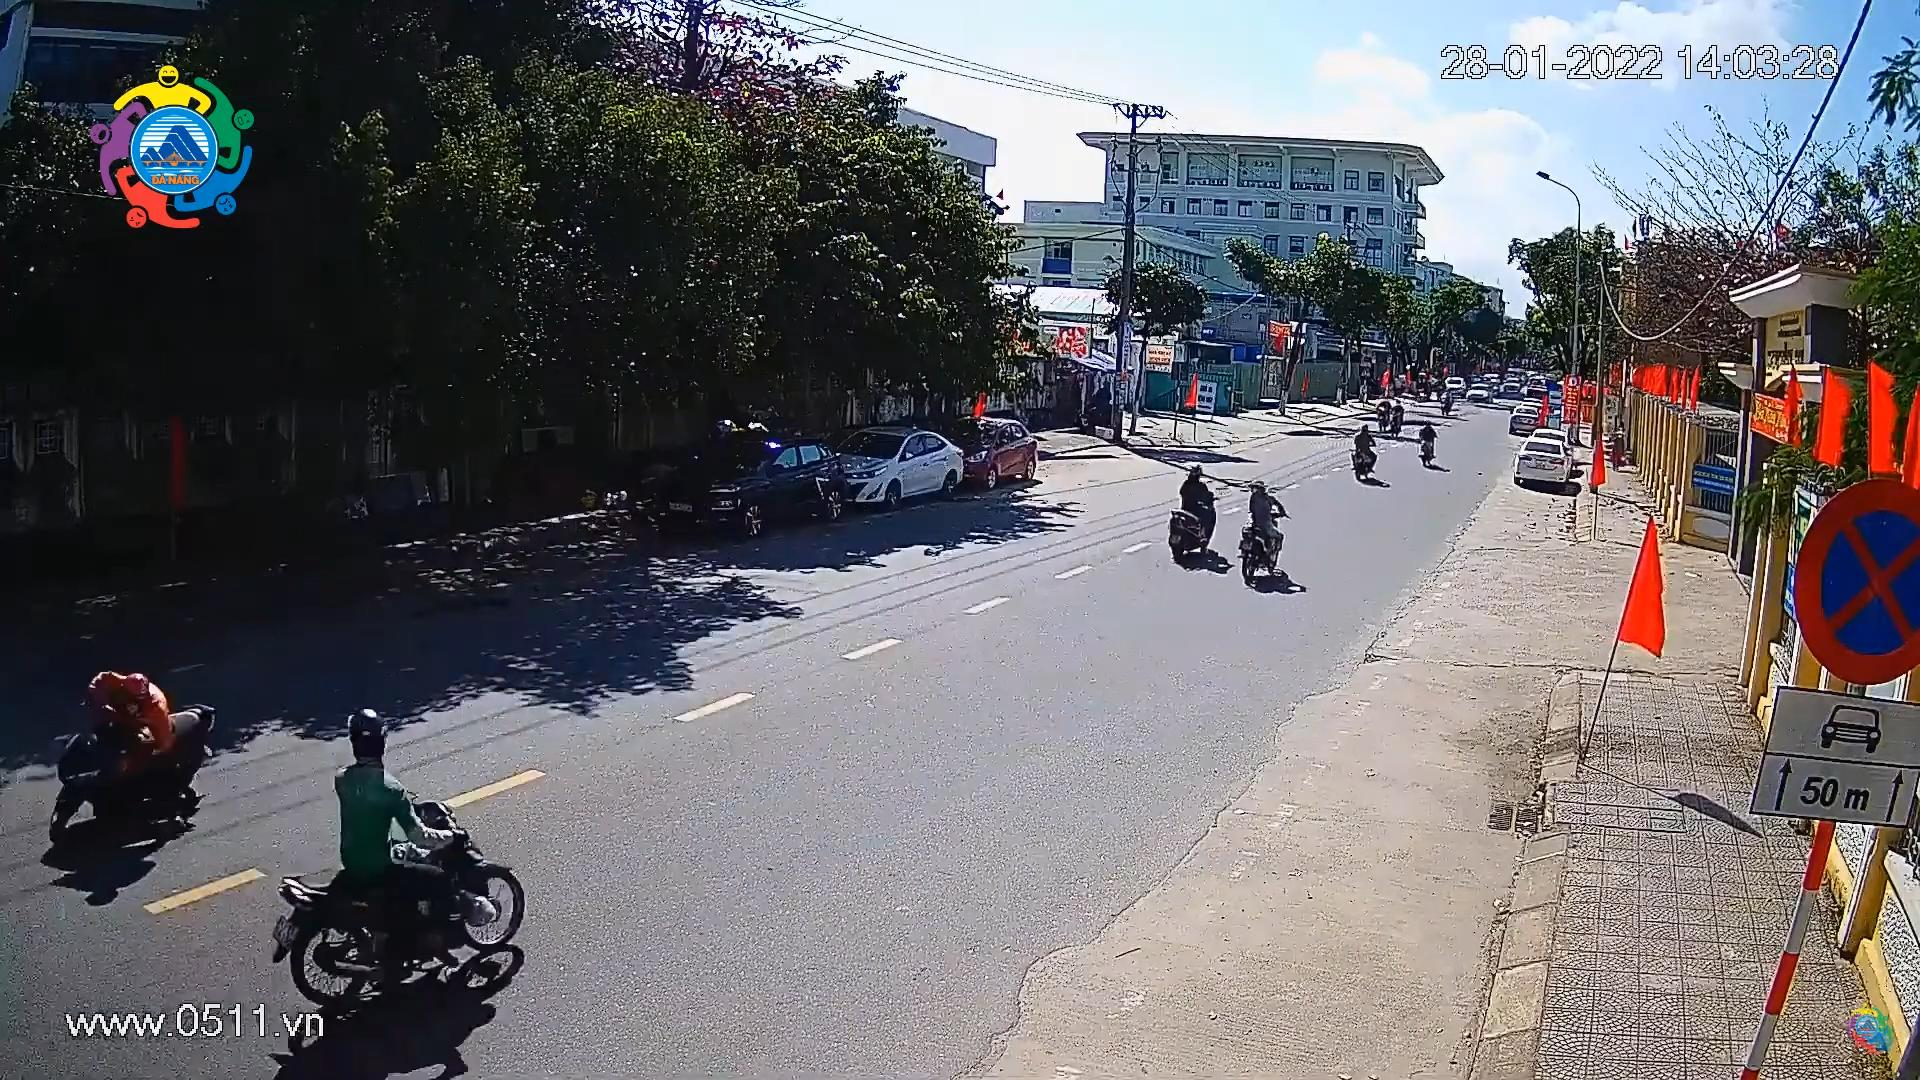accident: (42, 659, 236, 881)
car: (638, 434, 853, 551), (822, 417, 968, 516), (943, 413, 1042, 492), (1513, 429, 1575, 488), (1506, 400, 1543, 440), (1466, 380, 1495, 406), (1441, 375, 1469, 396)
motorcycle: (265, 698, 533, 1023), (1229, 463, 1303, 591), (1154, 459, 1226, 572), (1344, 418, 1383, 485), (1408, 413, 1445, 477), (1385, 401, 1406, 443), (1373, 397, 1393, 433), (1437, 378, 1455, 419)
